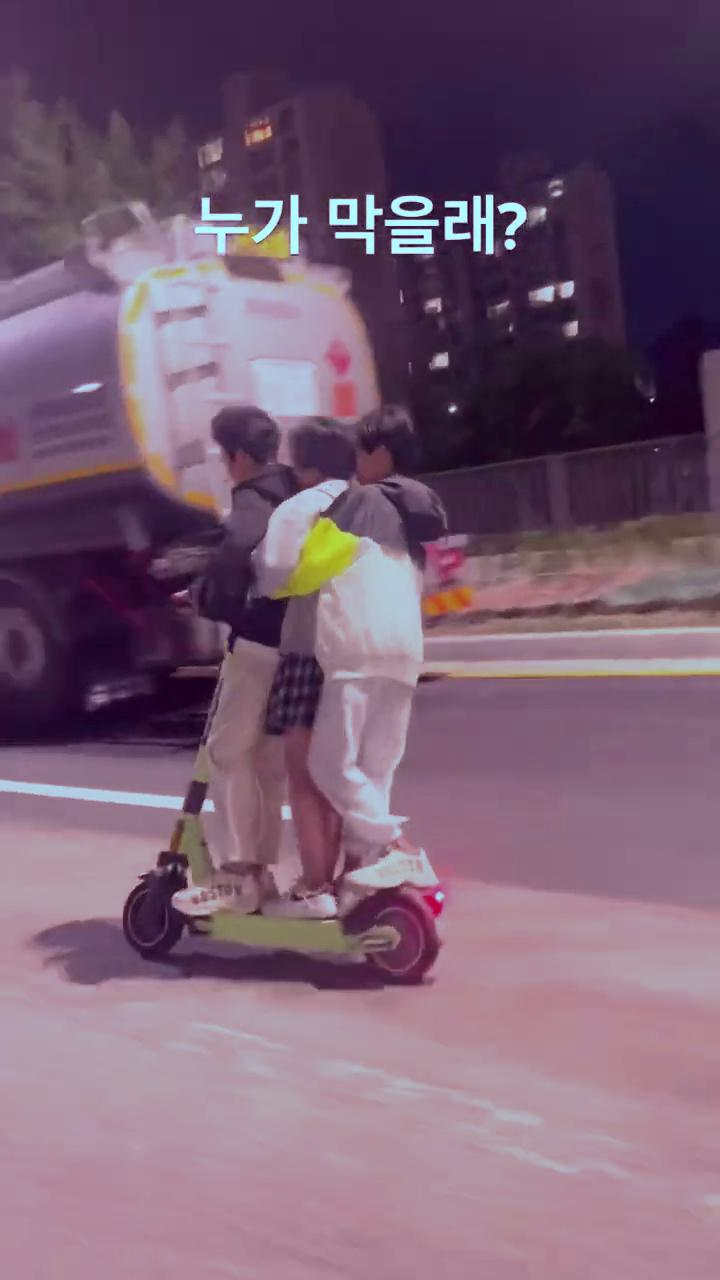multiple: (113, 393, 466, 979)
